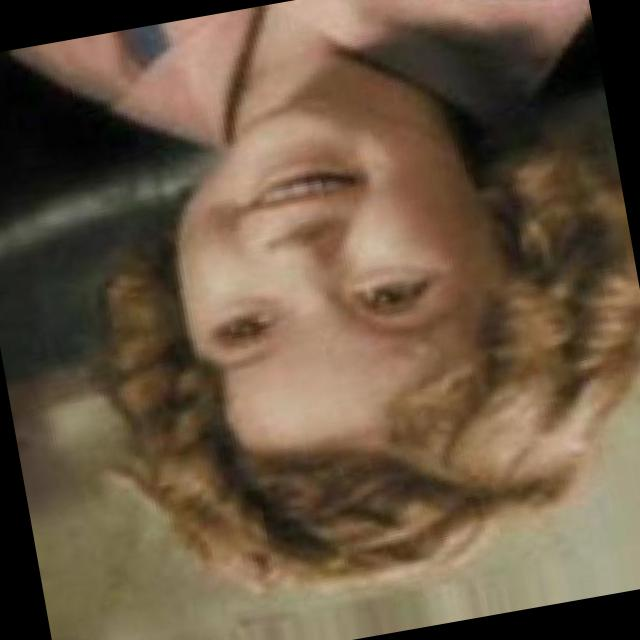bareface: (152, 58, 577, 552)
